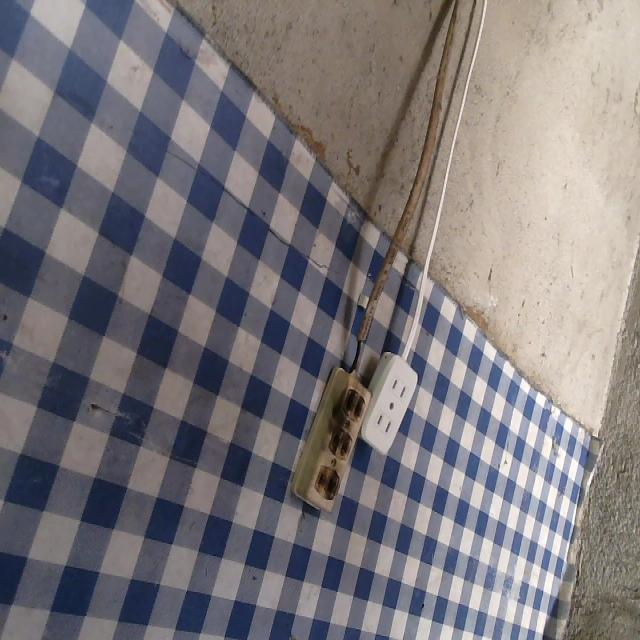-: (312, 459, 339, 500), (339, 385, 365, 424), (328, 424, 350, 460)
